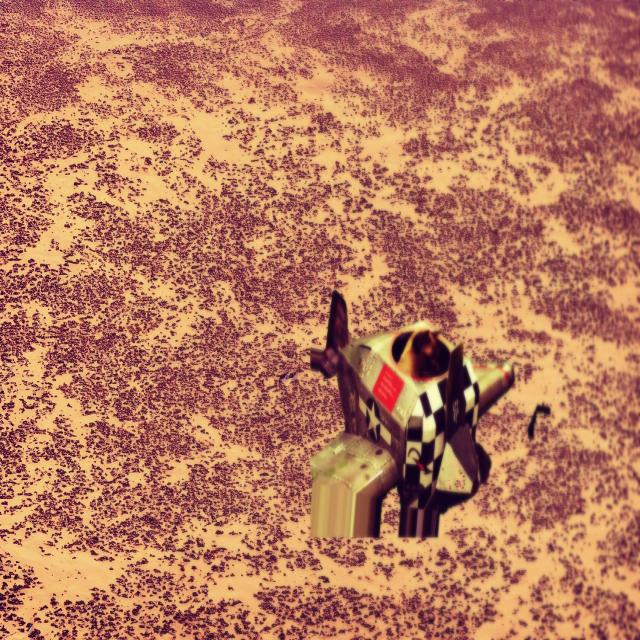airplane: (308, 289, 514, 539)
